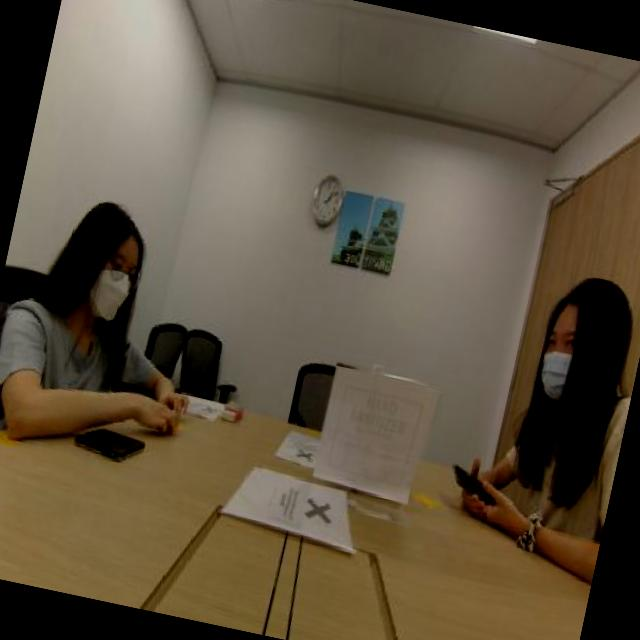Person: (475, 220, 640, 540), (0, 147, 177, 411)
